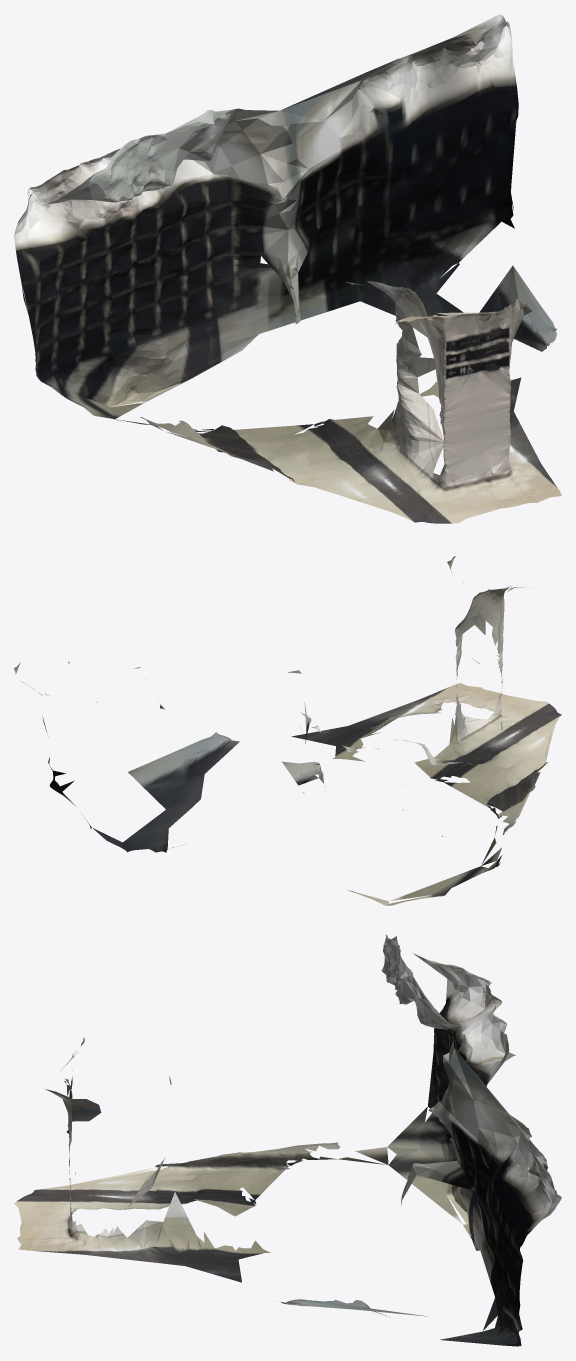
3 views of the same model, one above another, from view 1: azimuth 30°, elevation 25°; view 2: azimuth 150°, elevation 25°; view 3: azimuth 270°, elevation 25° (orthographic). The views are drawn at different scales.
Visible parts, largest first — view 1: mesh; view 2: mesh; view 3: mesh.
Part boxes in pixels (x1,y1,x2,y2): mesh: (14, 14, 561, 523); mesh: (14, 556, 561, 905); mesh: (14, 935, 561, 1346).
Size of the model in its own units: 7.84 by 4.12 by 7.58.
1 material, 1 textured.
